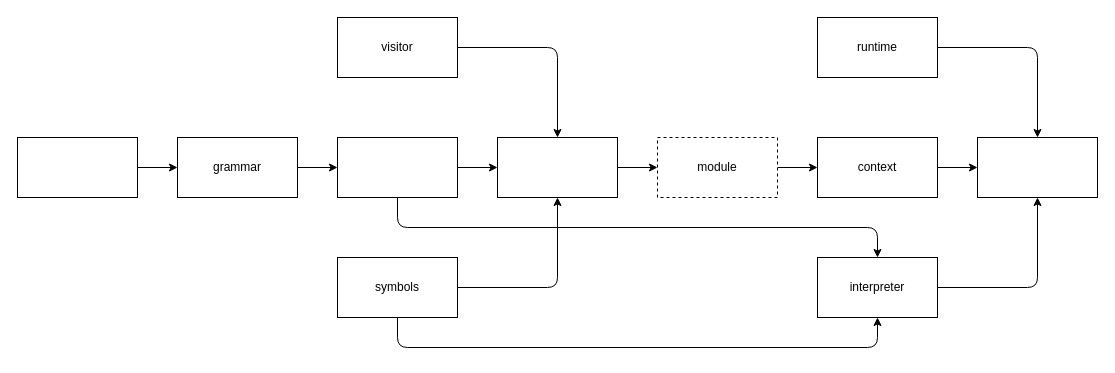
Some shapes in this 1115 by 373 pixel diagram are drawn without their labels. Each missing label, with the centre of its shape:
"ast" belongs at pixel 397 167.
"compiler" belongs at pixel 557 167.
"source code" belongs at pixel 77 167.
"virtual_machine" belongs at pixel 1037 167.
